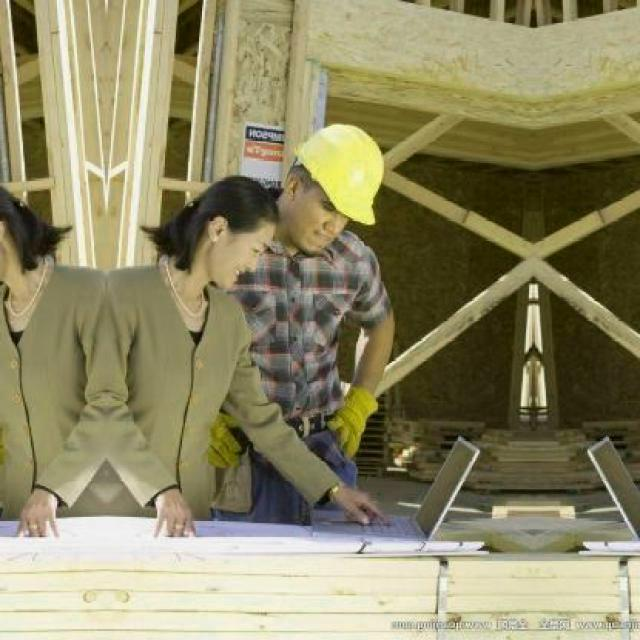face_nomask: (304, 200, 358, 254), (216, 242, 268, 288)
hand_glove: (322, 390, 379, 461), (198, 409, 245, 470)
hand_noglove: (320, 485, 395, 530), (10, 492, 62, 544), (151, 487, 200, 541)
head_helmet: (294, 123, 388, 222)
head_nohelmet: (214, 180, 282, 234)
person: (99, 180, 291, 535), (214, 124, 400, 490)
